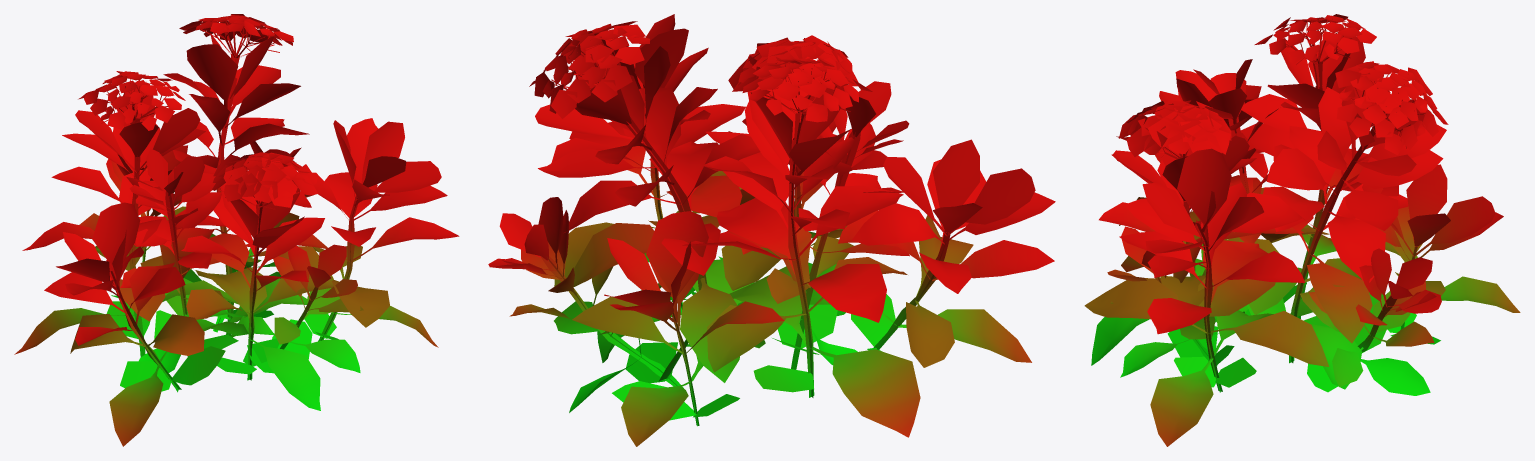
Rendered from Var6_LOD3.fbx.
The picture shows the model from 3 angles, left to right: view 1: azimuth 30°, elevation 25°; view 2: azimuth 150°, elevation 25°; view 3: azimuth 270°, elevation 25°; orthographic projection. The views are drawn at different scales.
Visible parts, largest first — view 1: _5cmk_Var6_LOD3; view 2: _5cmk_Var6_LOD3; view 3: _5cmk_Var6_LOD3.
Part boxes in pixels (x1,y1,x2,y2): _5cmk_Var6_LOD3: (14,14,459,446); _5cmk_Var6_LOD3: (488,14,1055,446); _5cmk_Var6_LOD3: (1084,14,1520,446).
Size of the model in its own units: 78.19 by 56.87 by 69.82.
